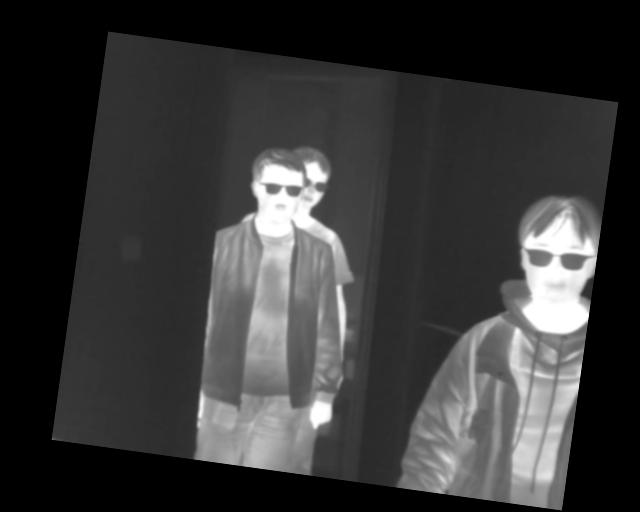face: (508, 186, 604, 316), (247, 144, 309, 225), (289, 144, 334, 212)
